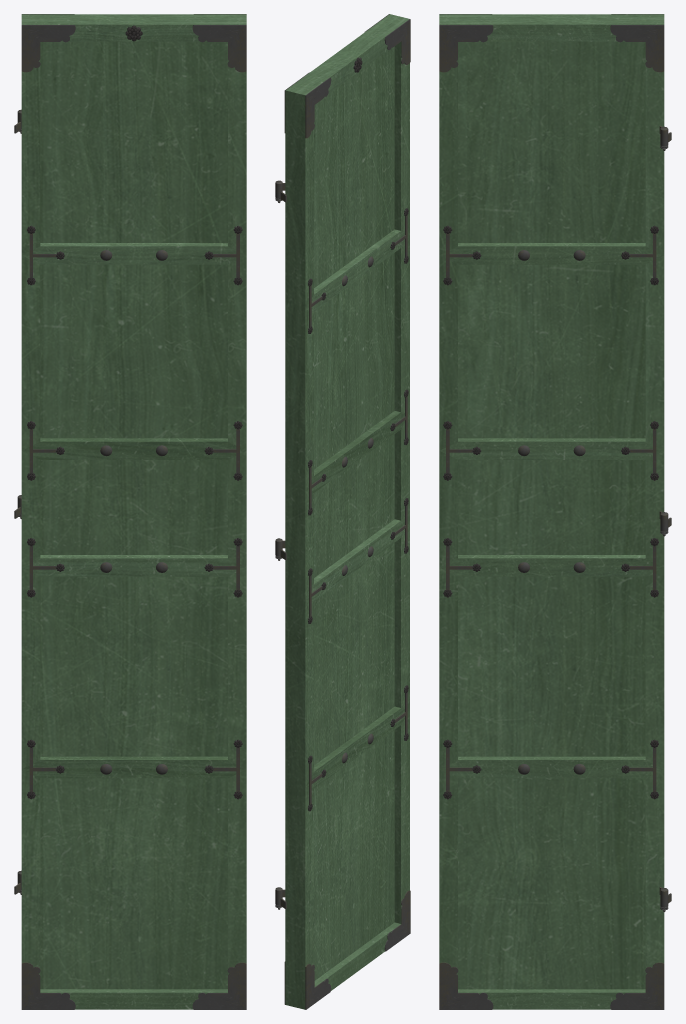
File: SM_Door06C.fbx
3 views of the same model, side by side, from view 1: azimuth 90°, elevation 25°; view 2: azimuth 150°, elevation 25°; view 3: azimuth 270°, elevation 25° (orthographic). The views are drawn at different scales.
Visible parts, largest first — view 1: SM_Door06C; view 2: SM_Door06C; view 3: SM_Door06C.
Part boxes in pixels (x1,y1,x2,y2): SM_Door06C: (14, 14, 246, 1009); SM_Door06C: (275, 14, 410, 1009); SM_Door06C: (439, 14, 671, 1009).
Size of the model in its own units: 8.4 by 49.98 by 234.
1 material, 1 textured.
